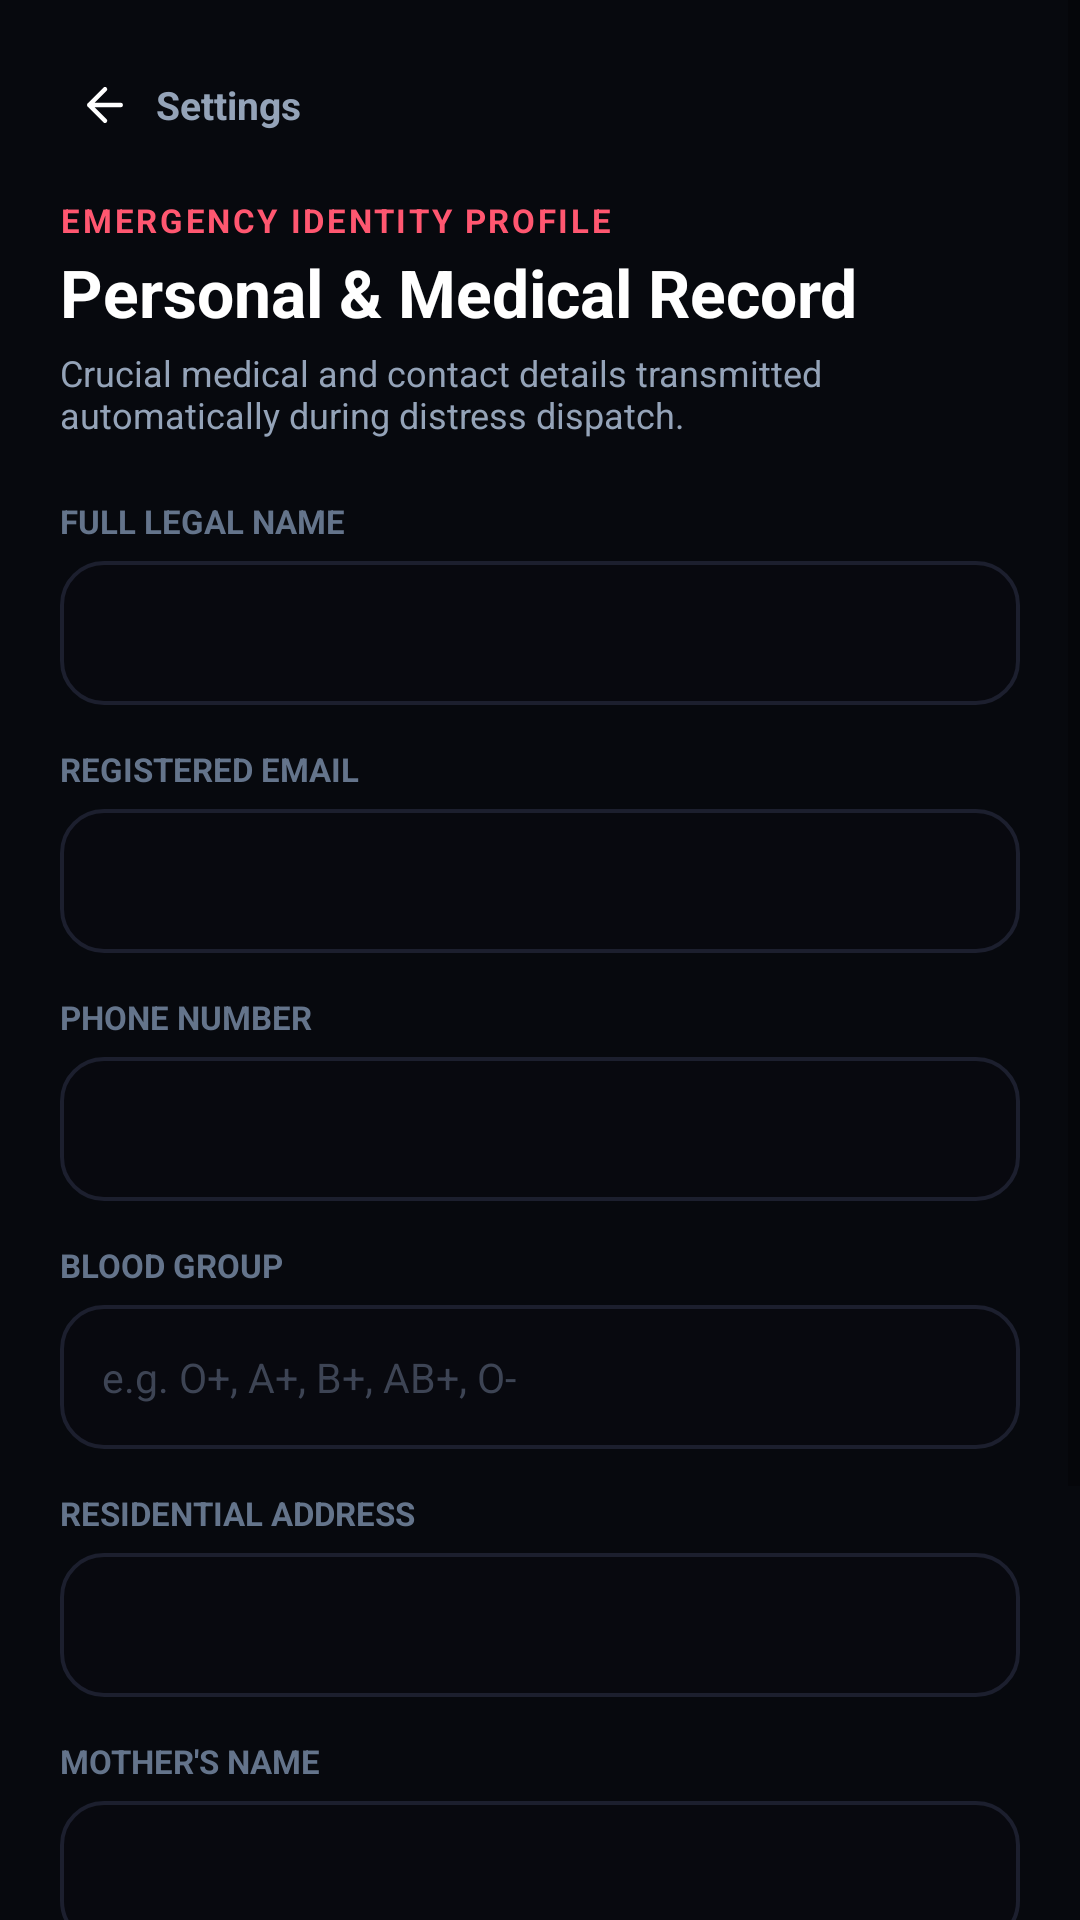

Locate icon controls on the screen. Image size 1080px x 1920px, boxes as [x1, y1, x2, y2].
arrow left: [87, 87, 123, 123]
